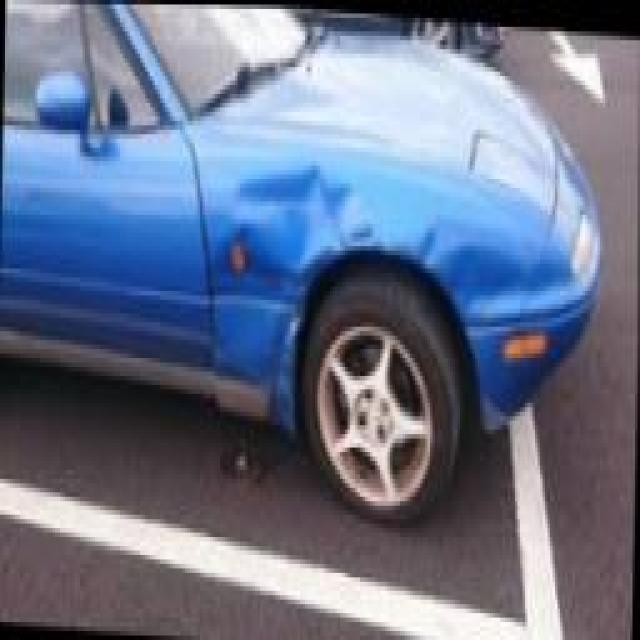Fender: (198, 110, 515, 433)
